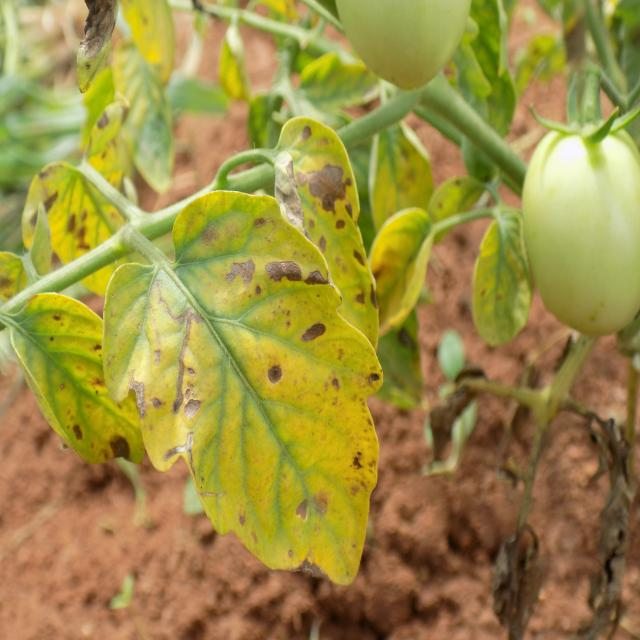tomato_early blight: (100, 186, 382, 586), (266, 115, 384, 356), (5, 292, 150, 468), (23, 93, 142, 304), (352, 202, 439, 336)
